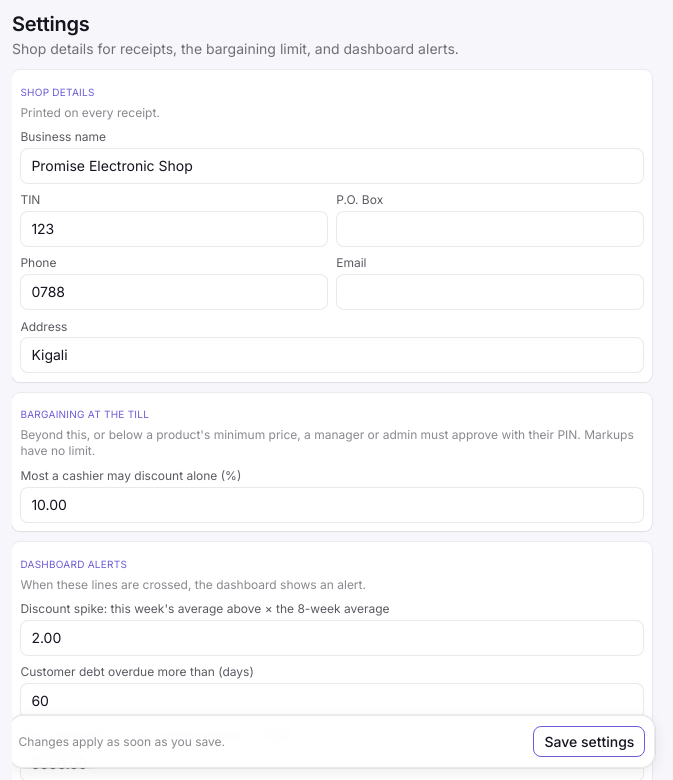
it: SettingsPageClient › refuses a limit above 100%
Replace the text in the number field labelled "Most a cashier may discount alone (%)" with "150" at (332,505), box [20, 487, 644, 523]
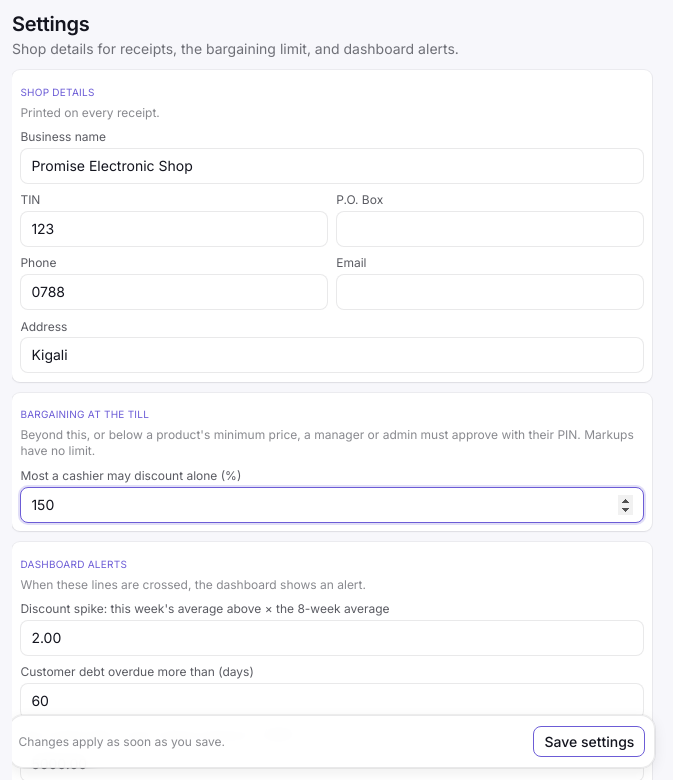
Click the button "Save settings".
click(589, 742)  # box [534, 726, 645, 758]
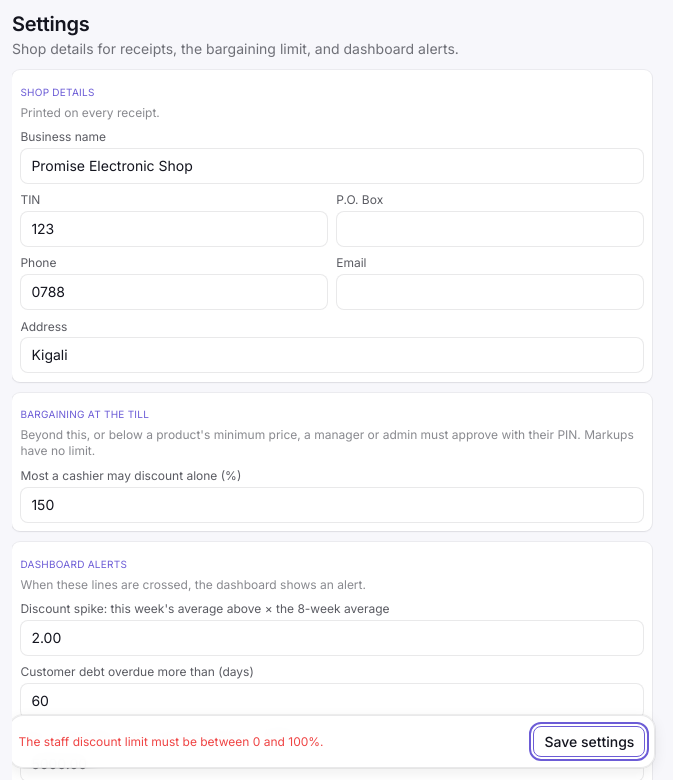
Expected: the text "The staff discount limit must be between 0 and 100%." is shown, [19, 734, 324, 749]
